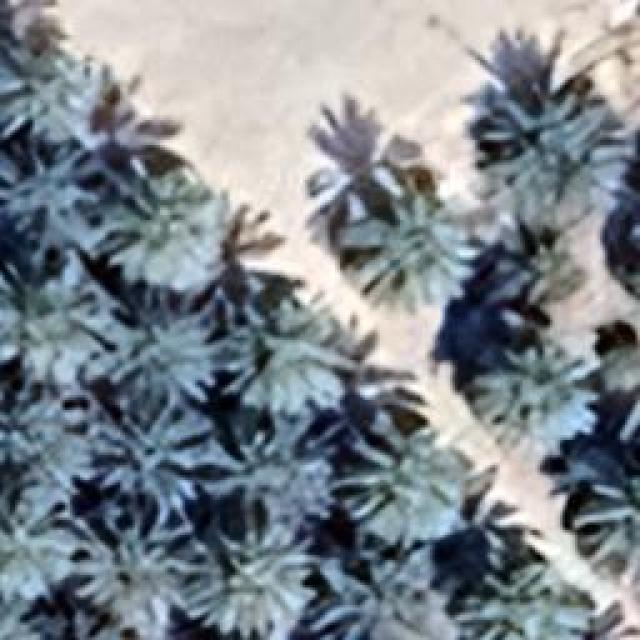PalmTree: (78, 31, 120, 624), (212, 282, 378, 420), (38, 88, 78, 560), (468, 95, 632, 205), (59, 500, 192, 628), (90, 157, 212, 295), (95, 292, 223, 418), (300, 542, 465, 638), (340, 420, 465, 545), (207, 412, 335, 530), (0, 255, 110, 390), (468, 340, 602, 450), (0, 4, 102, 137), (355, 177, 453, 305), (0, 390, 95, 520), (188, 534, 290, 636), (88, 408, 190, 506), (480, 210, 568, 318), (572, 455, 638, 590), (475, 574, 595, 638), (1, 155, 84, 243), (604, 322, 638, 436), (0, 590, 62, 637), (622, 247, 640, 341)
